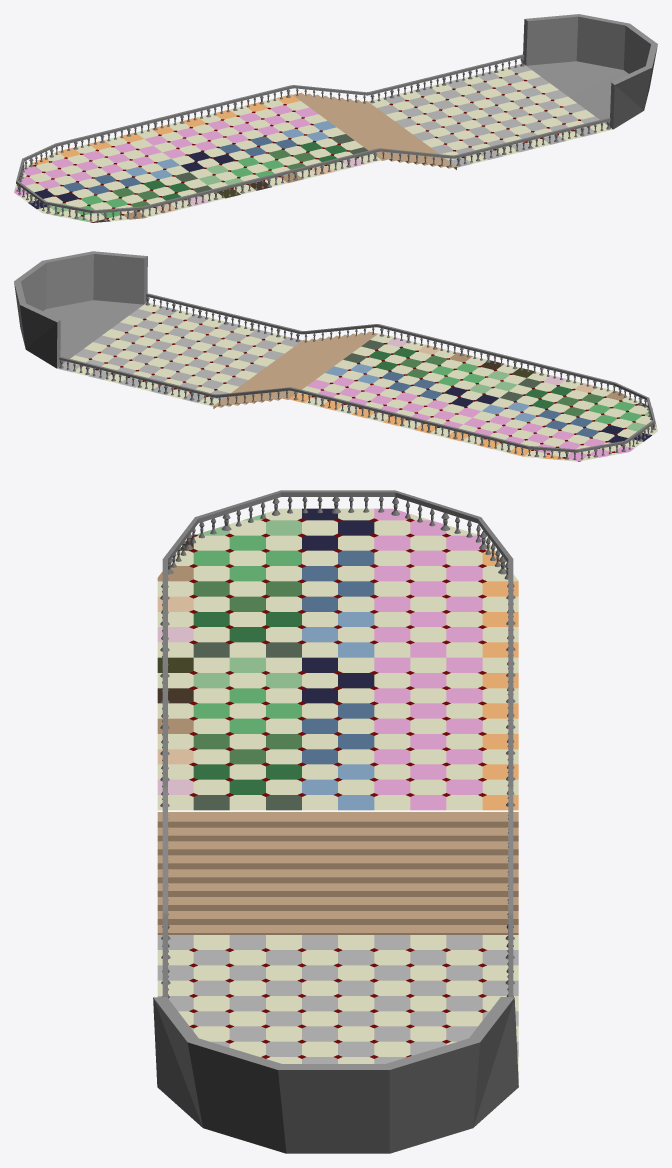
File: ENJPLX Lobby 1.fbx
3 renders of one model, top to bottom at view 1: azimuth 30°, elevation 25°; view 2: azimuth 150°, elevation 25°; view 3: azimuth 270°, elevation 25°, orthographic. The views are drawn at different scales.
Parts seen in each view (by area): view 1: Floor; view 2: Floor; view 3: Floor.
Boxes of the visible parts, x1,y1,x2,y2 form: Floor: (14, 14, 657, 222); Floor: (14, 251, 657, 461); Floor: (153, 490, 518, 1153).
Bounding box in the file's own units: 9963 × 744 × 2565.
